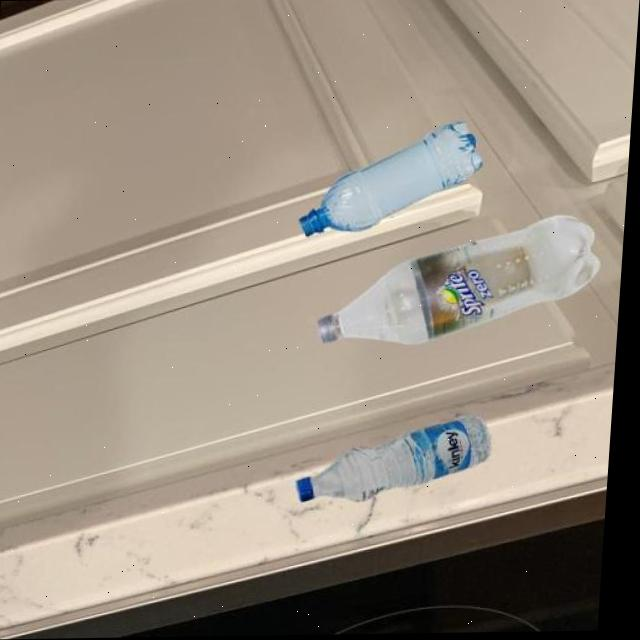bottle: (320, 214, 607, 350), (301, 122, 490, 239), (301, 414, 500, 506)
